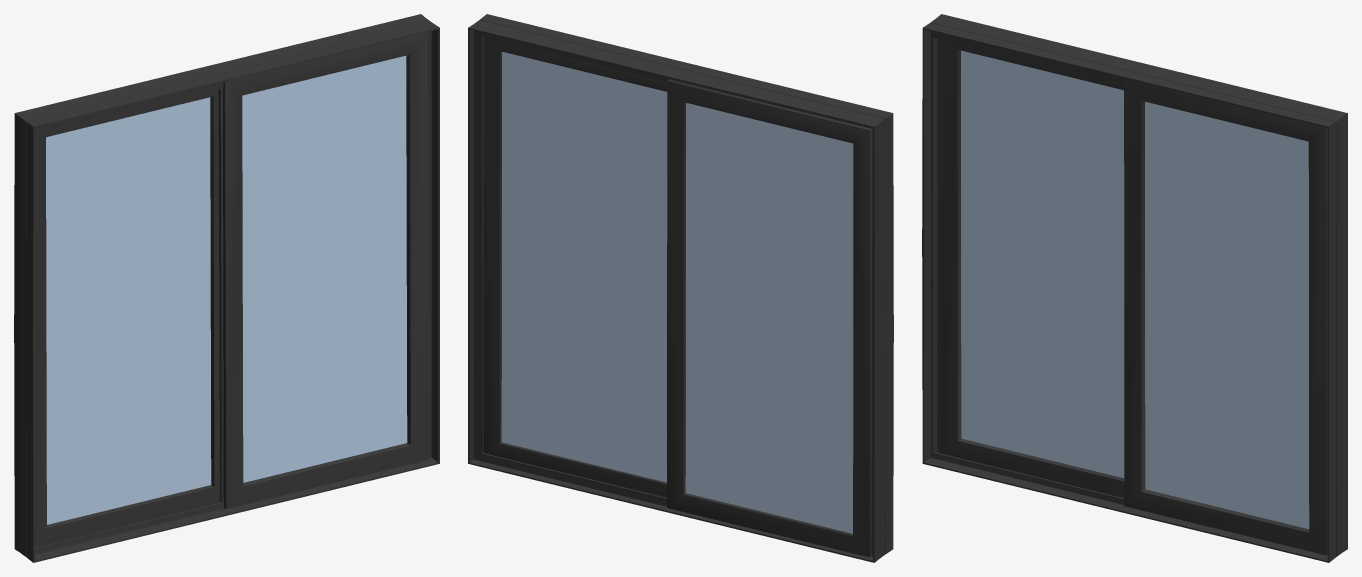
The model's file is window.fbx.
3 views of the same model, side by side, from view 1: azimuth 30°, elevation 25°; view 2: azimuth 150°, elevation 25°; view 3: azimuth 330°, elevation 25° (orthographic).
Visible parts, largest first — view 1: Cube.003, Cube.001, Window railing, Cube.002, Cube; view 2: Cube.003, Cube.001, Window railing, Cube, Cube.002; view 3: Cube.001, Cube.003, Window railing, Cube.002, Cube.
Boxes of the visible parts, x1=… form: Cube.003: x1=46, y1=97, x2=211, y2=524; Cube.001: x1=242, y1=55, x2=407, y2=482; Window railing: x1=14, y1=14, x2=439, y2=562; Cube.002: x1=218, y1=32, x2=428, y2=508; Cube: x1=35, y1=89, x2=219, y2=547; Cube.003: x1=685, y1=103, x2=853, y2=533; Cube.001: x1=501, y1=51, x2=667, y2=482; Window railing: x1=468, y1=14, x2=893, y2=562; Cube: x1=667, y1=79, x2=872, y2=557; Cube.002: x1=483, y1=37, x2=667, y2=497; Cube.001: x1=1145, y1=101, x2=1309, y2=529; Cube.003: x1=961, y1=50, x2=1124, y2=478; Window railing: x1=922, y1=14, x2=1347, y2=562; Cube.002: x1=1124, y1=78, x2=1327, y2=555; Cube: x1=940, y1=39, x2=1124, y2=497.
Size of the model in its own units: 197 by 202 by 15.75.
